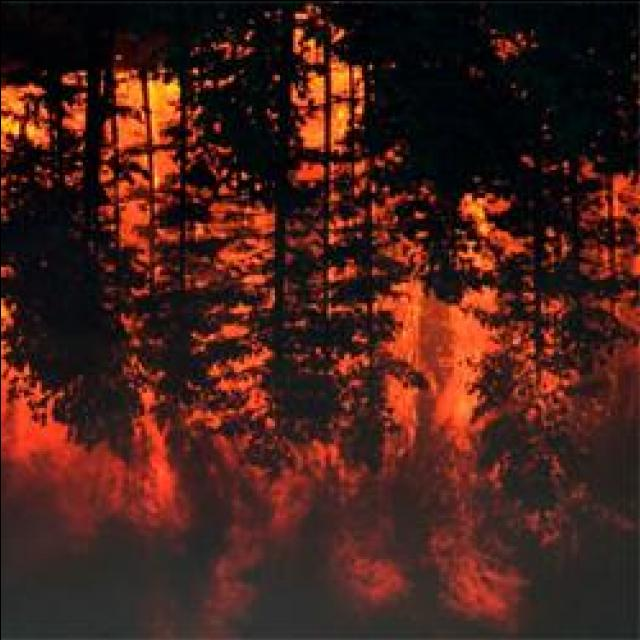fire: (383, 292, 480, 448), (290, 36, 364, 151), (109, 61, 181, 136), (0, 81, 45, 148)
smoke: (401, 502, 638, 634), (0, 516, 244, 640), (260, 476, 400, 636)
